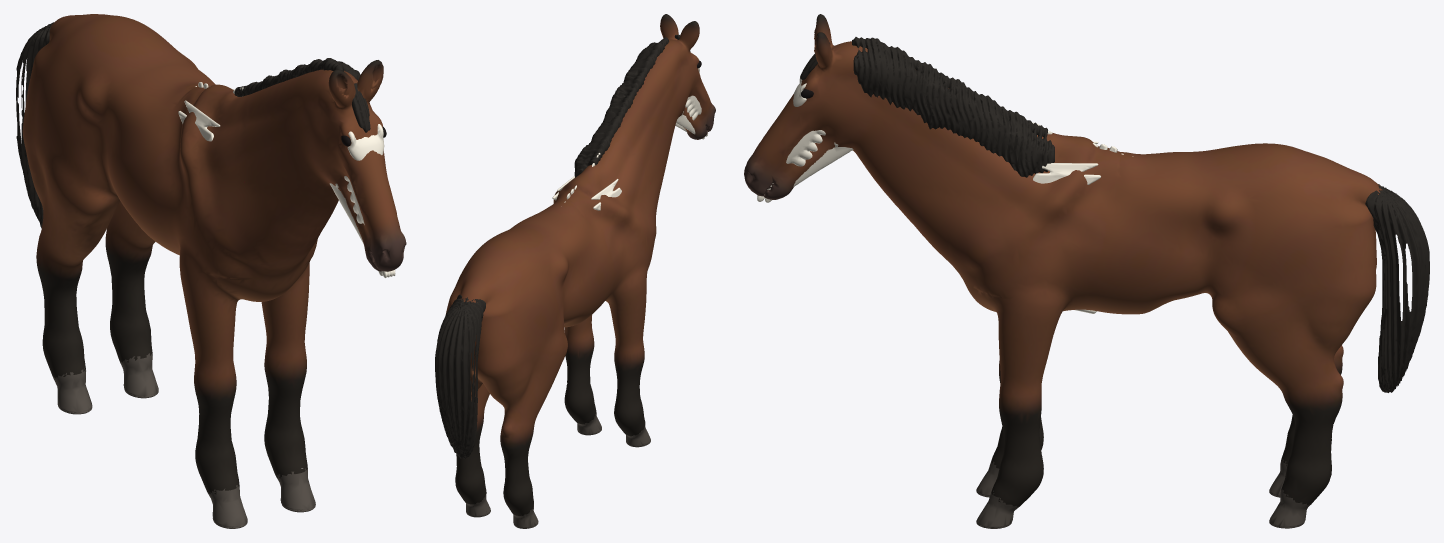
File: horse.glb
The picture shows the model from 3 angles, left to right: view 1: azimuth 30°, elevation 25°; view 2: azimuth 150°, elevation 25°; view 3: azimuth 270°, elevation 25°; orthographic projection. The views are drawn at different scales.
Parts seen in each view (by area): view 1: skin.NECK, skin.R_HIP, skin.HEAD, skin.R_SHOULDER, skin.BACK, skin.CHEST, skin.LOIN, skin.BELLY, skin.CROUP, skin.WITHERS, skin.RF_FOREARM, skin.LF_FOREARM (+24 smaller); view 2: skin.NECK, skin.R_HIP, skin.TAIL_BASE, skin.CROUP, skin.R_SHOULDER, skin.HEAD, skin.BACK, skin.WITHERS, skin.BELLY, skin.RH_GASKIN, skin.RF_FOREARM, skin.LOIN (+17 smaller); view 3: skin.NECK, skin.L_HIP, skin.L_SHOULDER, skin.HEAD, skin.TAIL_BASE, skin.BELLY, skin.BACK, skin.CROUP, skin.LH_GASKIN, skin.LOIN, skin.WITHERS, skin.CHEST (+13 smaller).
Boxes of the visible parts, x1=… form: skin.NECK: x1=202, y1=58, x2=360, y2=276; skin.R_HIP: x1=22, y1=35, x2=115, y2=218; skin.HEAD: x1=309, y1=60, x2=406, y2=271; skin.R_SHOULDER: x1=149, y1=131, x2=211, y2=278; skin.BACK: x1=113, y1=64, x2=215, y2=162; skin.CHEST: x1=160, y1=200, x2=317, y2=301; skin.LOIN: x1=81, y1=39, x2=197, y2=121; skin.BELLY: x1=35, y1=131, x2=174, y2=252; skin.CROUP: x1=34, y1=14, x2=165, y2=68; skin.WITHERS: x1=174, y1=84, x2=248, y2=160; skin.RF_FOREARM: x1=186, y1=305, x2=235, y2=377; skin.LF_FOREARM: x1=261, y1=291, x2=308, y2=360; skin.NECK: x1=574, y1=37, x2=688, y2=221; skin.R_HIP: x1=470, y1=243, x2=577, y2=396; skin.TAIL_BASE: x1=435, y1=282, x2=487, y2=458; skin.CROUP: x1=449, y1=230, x2=543, y2=317; skin.R_SHOULDER: x1=595, y1=205, x2=650, y2=299; skin.HEAD: x1=660, y1=14, x2=715, y2=139; skin.BACK: x1=516, y1=193, x2=607, y2=268; skin.WITHERS: x1=554, y1=148, x2=630, y2=223; skin.BELLY: x1=471, y1=247, x2=612, y2=402; skin.RH_GASKIN: x1=499, y1=375, x2=556, y2=434; skin.RF_FOREARM: x1=610, y1=305, x2=645, y2=353; skin.LOIN: x1=505, y1=221, x2=575, y2=276; skin.NECK: x1=837, y1=37, x2=1054, y2=277; skin.L_HIP: x1=1185, y1=171, x2=1376, y2=346; skin.L_SHOULDER: x1=1003, y1=195, x2=1104, y2=305; skin.HEAD: x1=744, y1=14, x2=865, y2=199; skin.TAIL_BASE: x1=1357, y1=172, x2=1429, y2=392; skin.BELLY: x1=1103, y1=230, x2=1351, y2=340; skin.BACK: x1=1104, y1=148, x2=1185, y2=232; skin.CROUP: x1=1232, y1=143, x2=1371, y2=227; skin.LH_GASKIN: x1=1231, y1=336, x2=1345, y2=391; skin.LOIN: x1=1186, y1=146, x2=1233, y2=224; skin.WITHERS: x1=1019, y1=133, x2=1104, y2=204; skin.CHEST: x1=959, y1=228, x2=1104, y2=313.
Bounding box in the file's own units: 0.5709 × 2.18 × 2.79.
